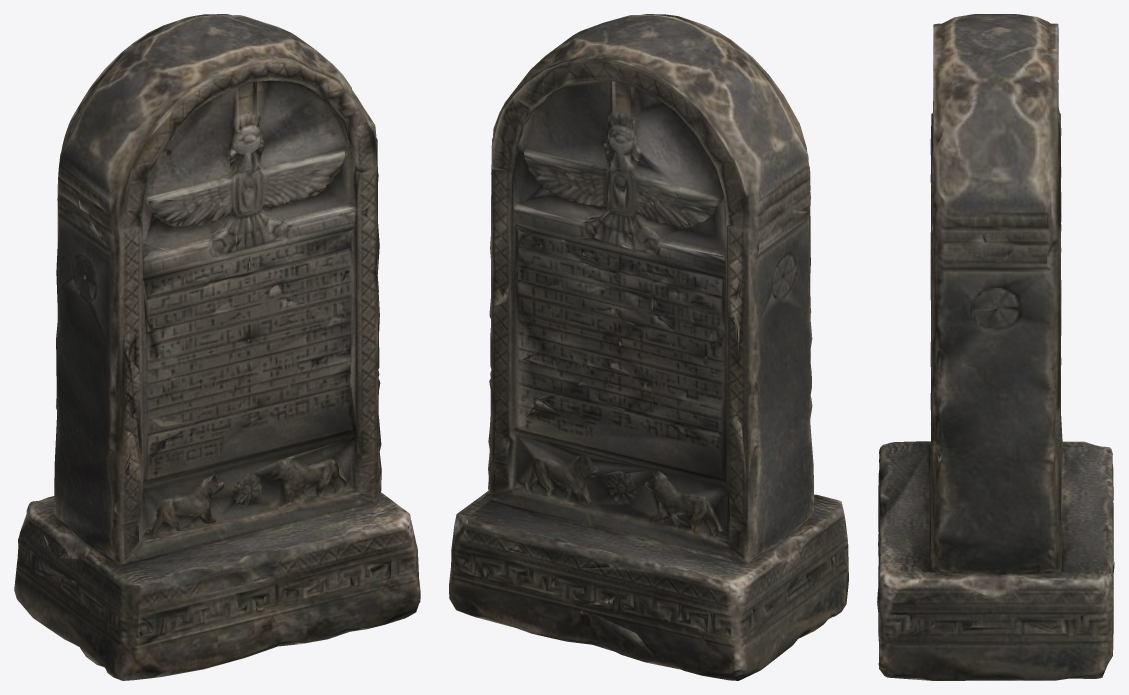
File: city_van_urartu_stele.glb
3 views of the same model, side by side, from view 1: azimuth 30°, elevation 25°; view 2: azimuth 150°, elevation 25°; view 3: azimuth 270°, elevation 25° (orthographic).
Parts seen in each view (by area): view 1: Mesh1.0; view 2: Mesh1.0; view 3: Mesh1.0.
Boxes of the visible parts, <box> form: Mesh1.0: <box>14,14,420,680</box>; Mesh1.0: <box>449,14,848,680</box>; Mesh1.0: <box>877,14,1114,680</box>.
Bounding box in the file's own units: 1.4 × 2.6 × 0.9643.
Materials: 1 (1 with a texture image).
